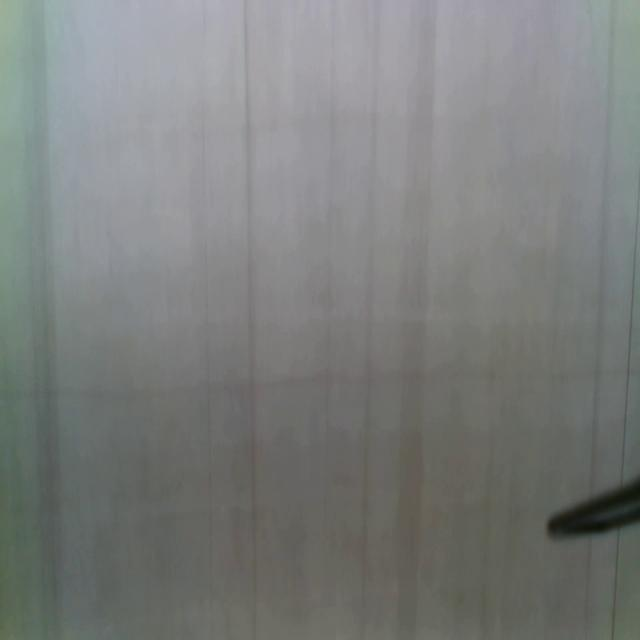color bleeding: (0, 361, 640, 406)
crease: (359, 0, 384, 639), (589, 4, 618, 479), (239, 0, 260, 637), (198, 0, 216, 640), (321, 0, 338, 522), (620, 205, 640, 470), (579, 534, 597, 636), (608, 529, 622, 640)
